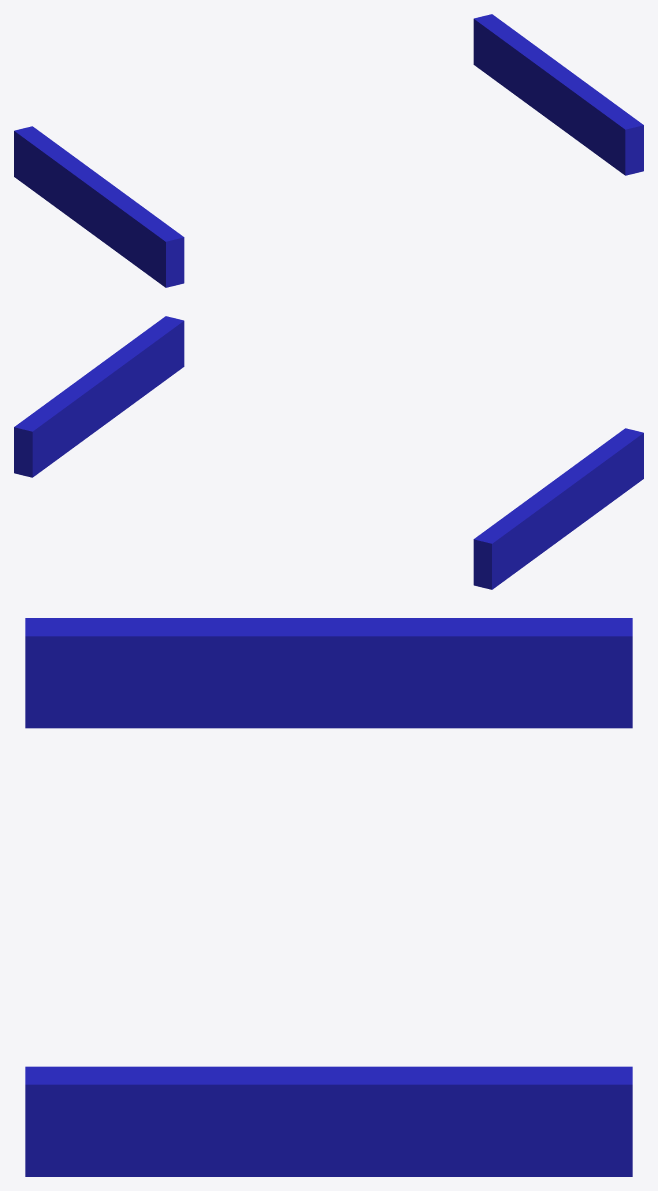
File: M_BigRopeTrap.fbx
3 views of the same model, one above another, from view 1: azimuth 30°, elevation 25°; view 2: azimuth 150°, elevation 25°; view 3: azimuth 270°, elevation 25° (orthographic). The views are drawn at different scales.
Visible parts, largest first — view 1: RopeTrapBig; view 2: RopeTrapBig; view 3: RopeTrapBig.
Boxes of the visible parts, x1=… form: RopeTrapBig: x1=14, y1=14, x2=643, y2=287; RopeTrapBig: x1=14, y1=316, x2=643, y2=589; RopeTrapBig: x1=25, y1=618, x2=632, y2=1176.
Bounding box in the file's own units: 364 × 33.5 × 200.
